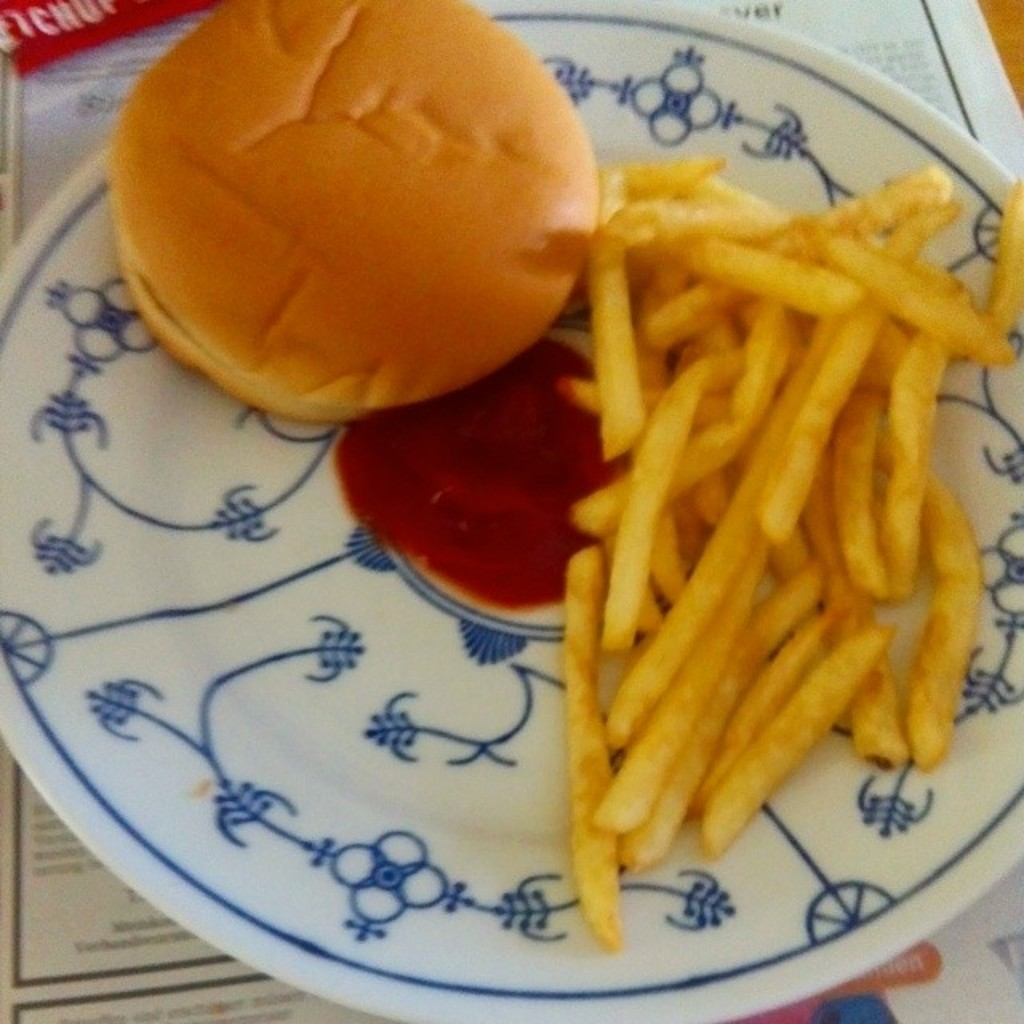French fries: (564, 140, 1022, 960)
